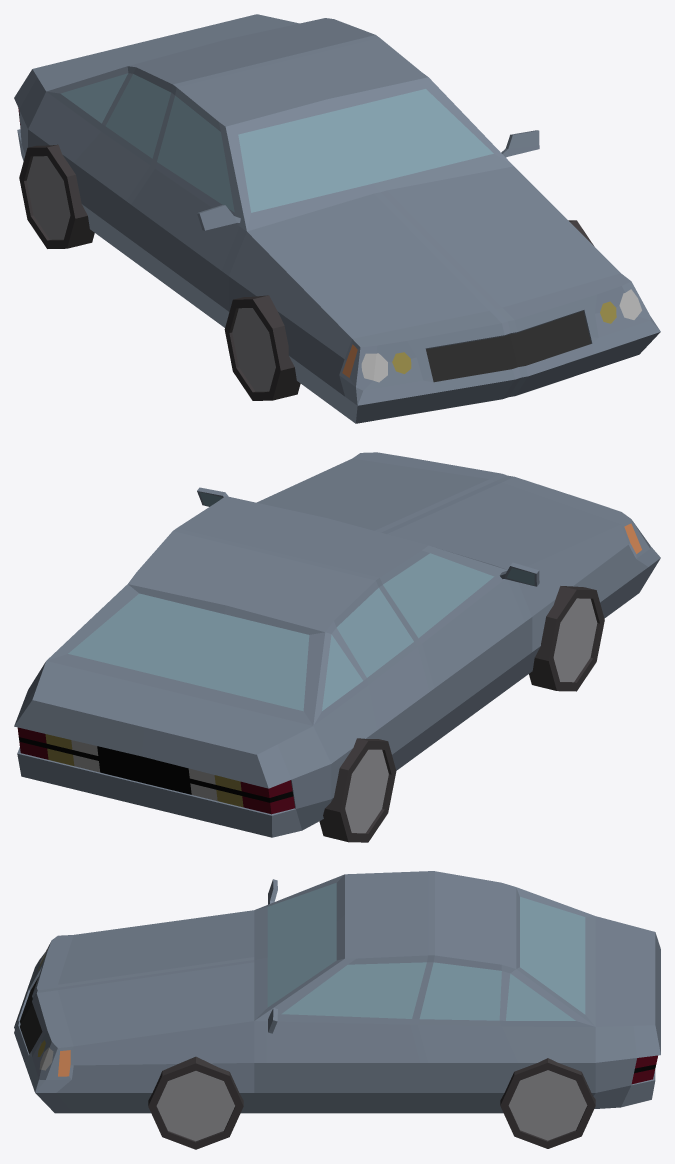
Rendered from Car - 80s sedan.fbx.
3 renders of one model, top to bottom at view 1: azimuth 30°, elevation 25°; view 2: azimuth 150°, elevation 25°; view 3: azimuth 270°, elevation 25°, orthographic. The views are drawn at different scales.
Visible parts, largest first — view 1: Cube; view 2: Cube; view 3: Cube.
Boxes of the visible parts, x1,y1,x2,y2 form: Cube: (14, 14, 660, 423); Cube: (14, 452, 660, 842); Cube: (14, 871, 660, 1149).
Size of the model in its own units: 234 by 131 by 454.
